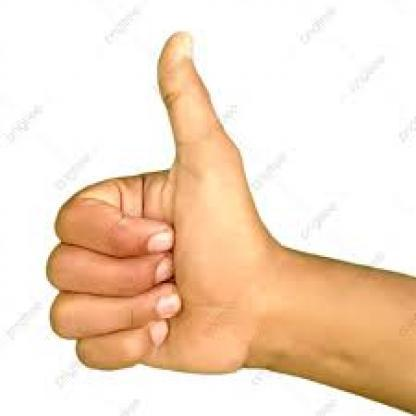thumb_up: (44, 29, 288, 376)
